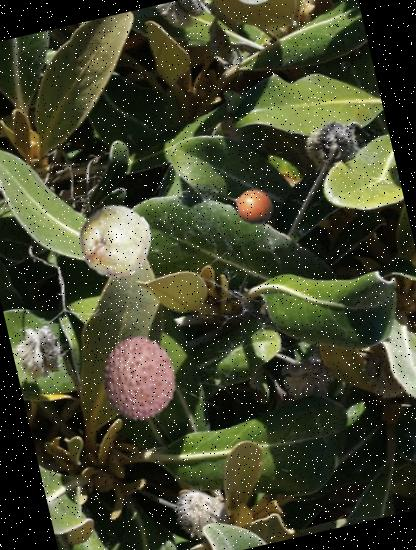Granadilla: (218, 174, 280, 236)
Lychee: (88, 327, 192, 430)
Pear: (72, 196, 160, 286)
